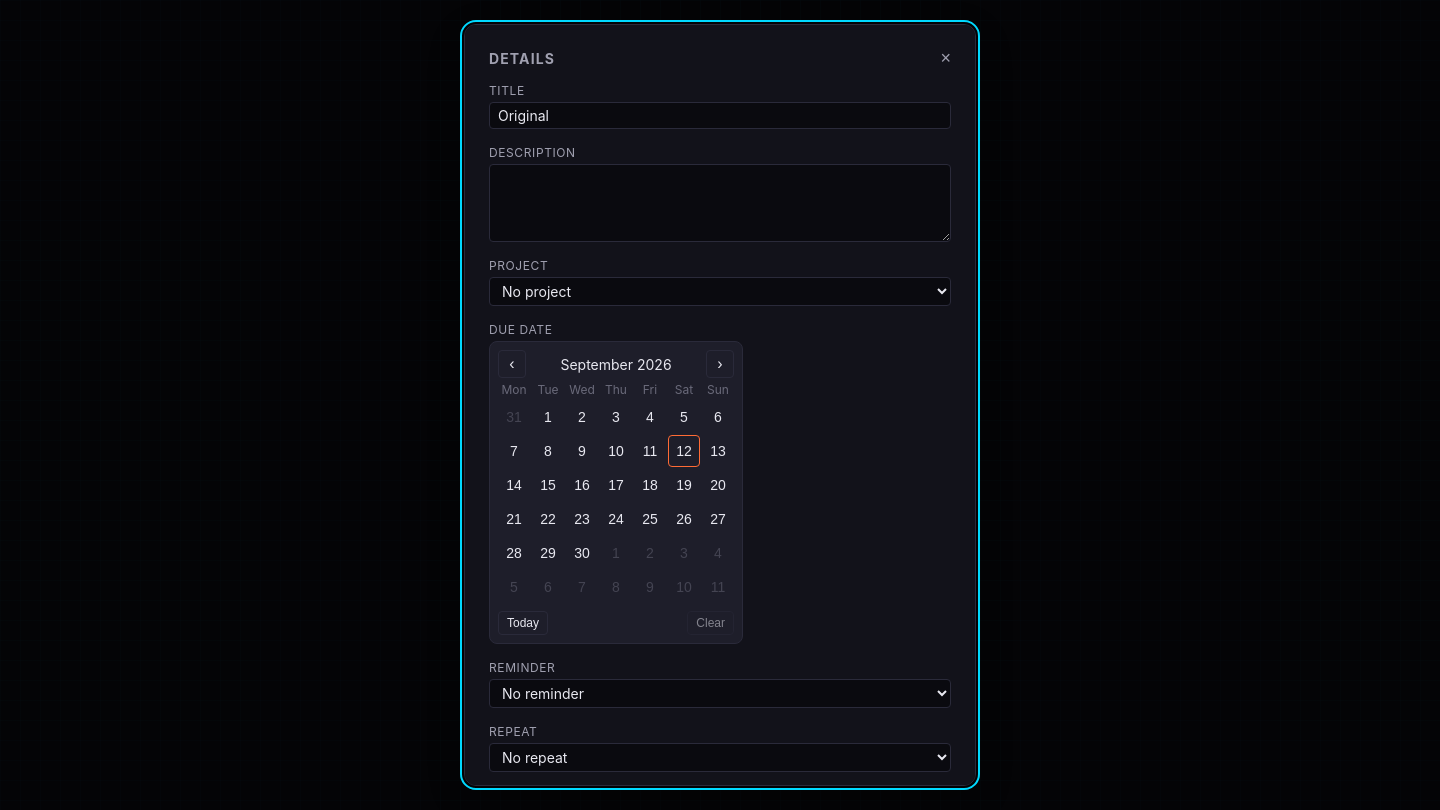
Test: TodoDetail › rejects an empty title and does not save
Clear the field labelled "Title" at (720, 116), box [489,102,951,129]
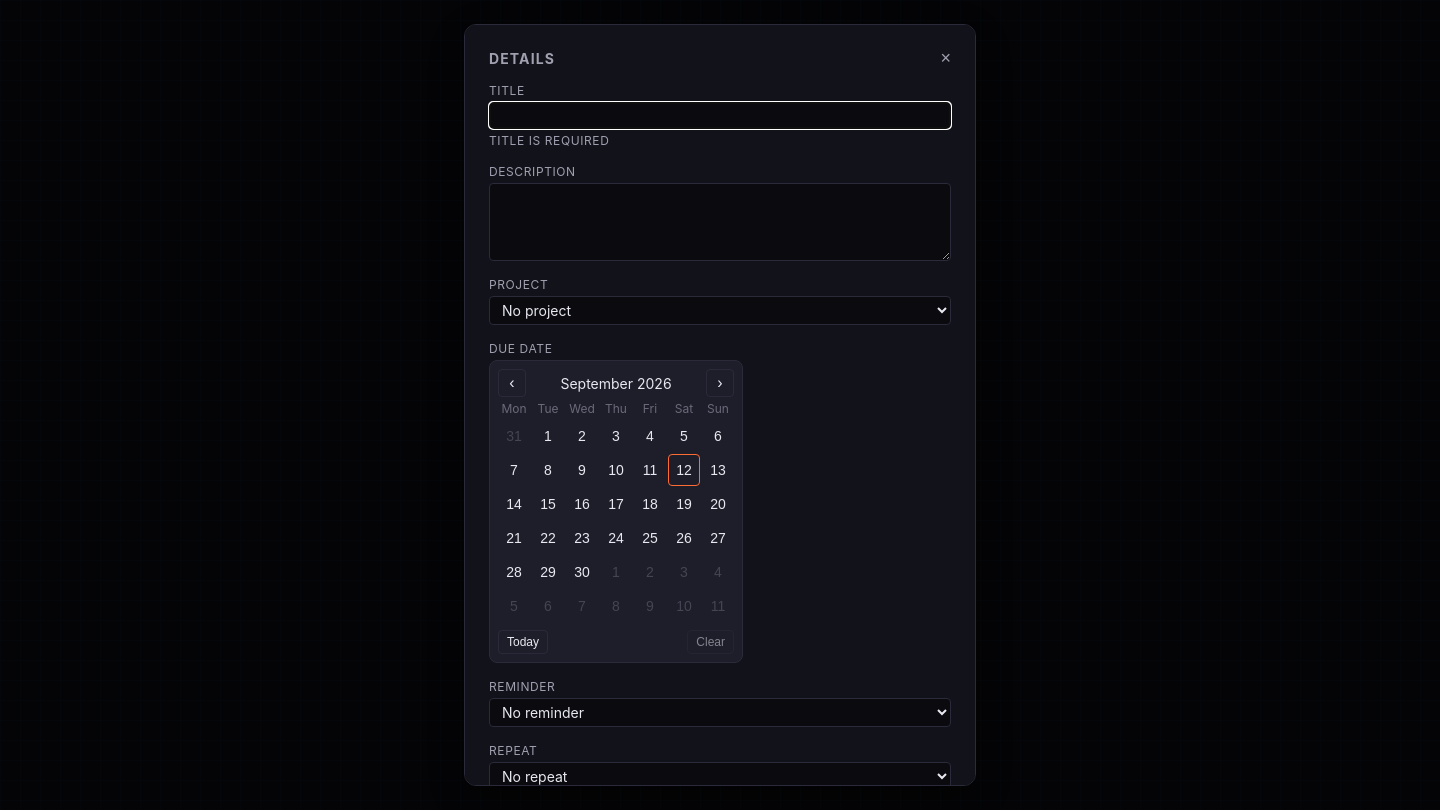
Expected: the message shows "required", [489,133,610,148]
